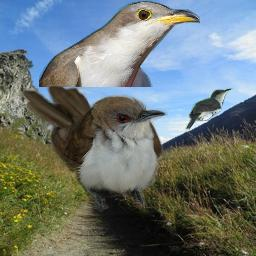Cuckoo: (22, 84, 168, 214), (39, 1, 200, 87), (185, 88, 233, 131)
